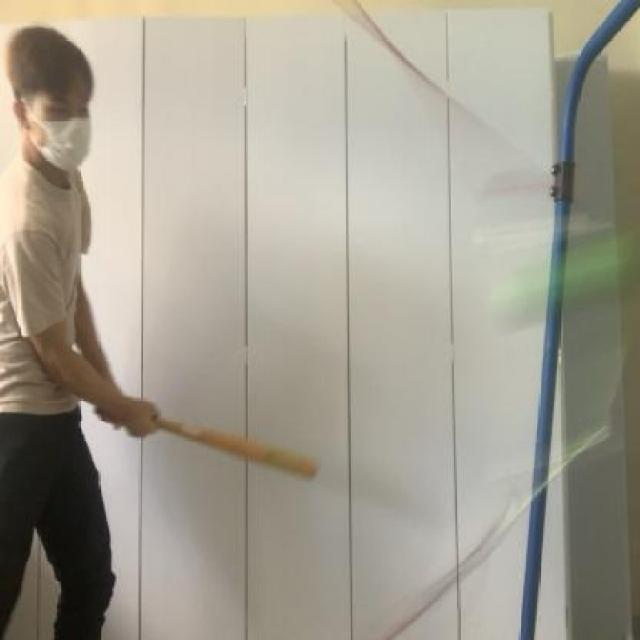baseball: (475, 219, 640, 335)
